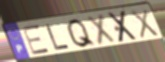E: (21, 23, 52, 56)
L: (44, 23, 72, 52)
Q: (66, 18, 98, 49)
X: (107, 9, 140, 45), (85, 13, 118, 47), (129, 7, 161, 40)
